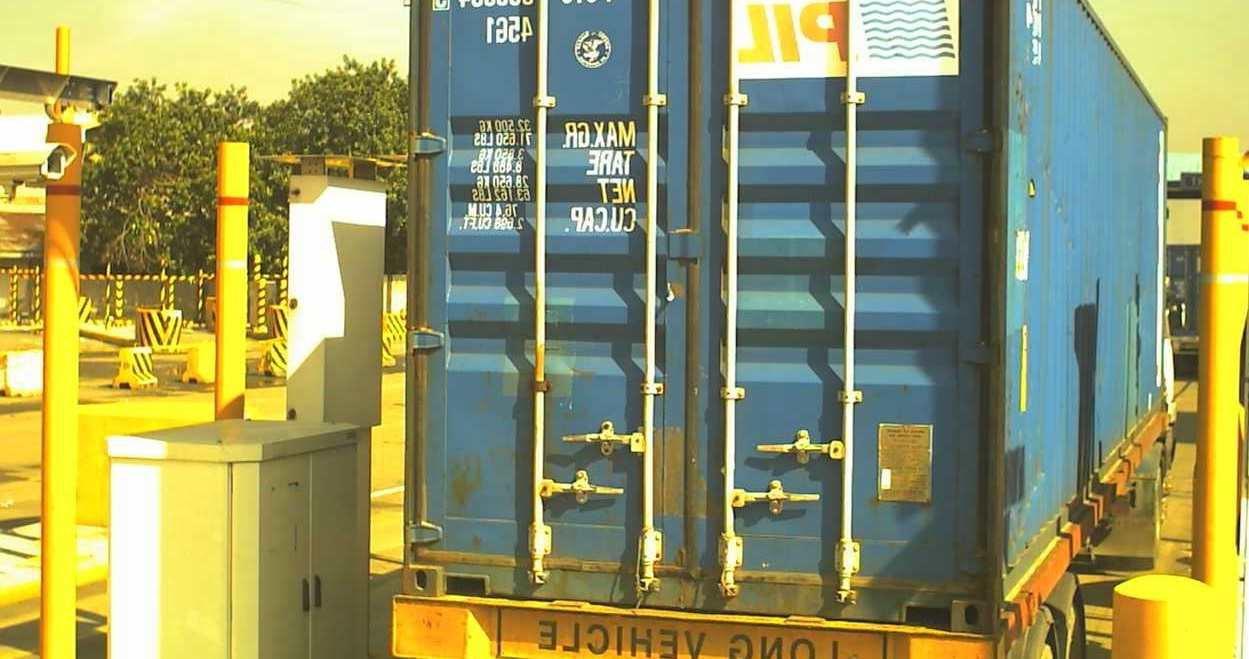container_door: (399, 3, 1002, 629)
